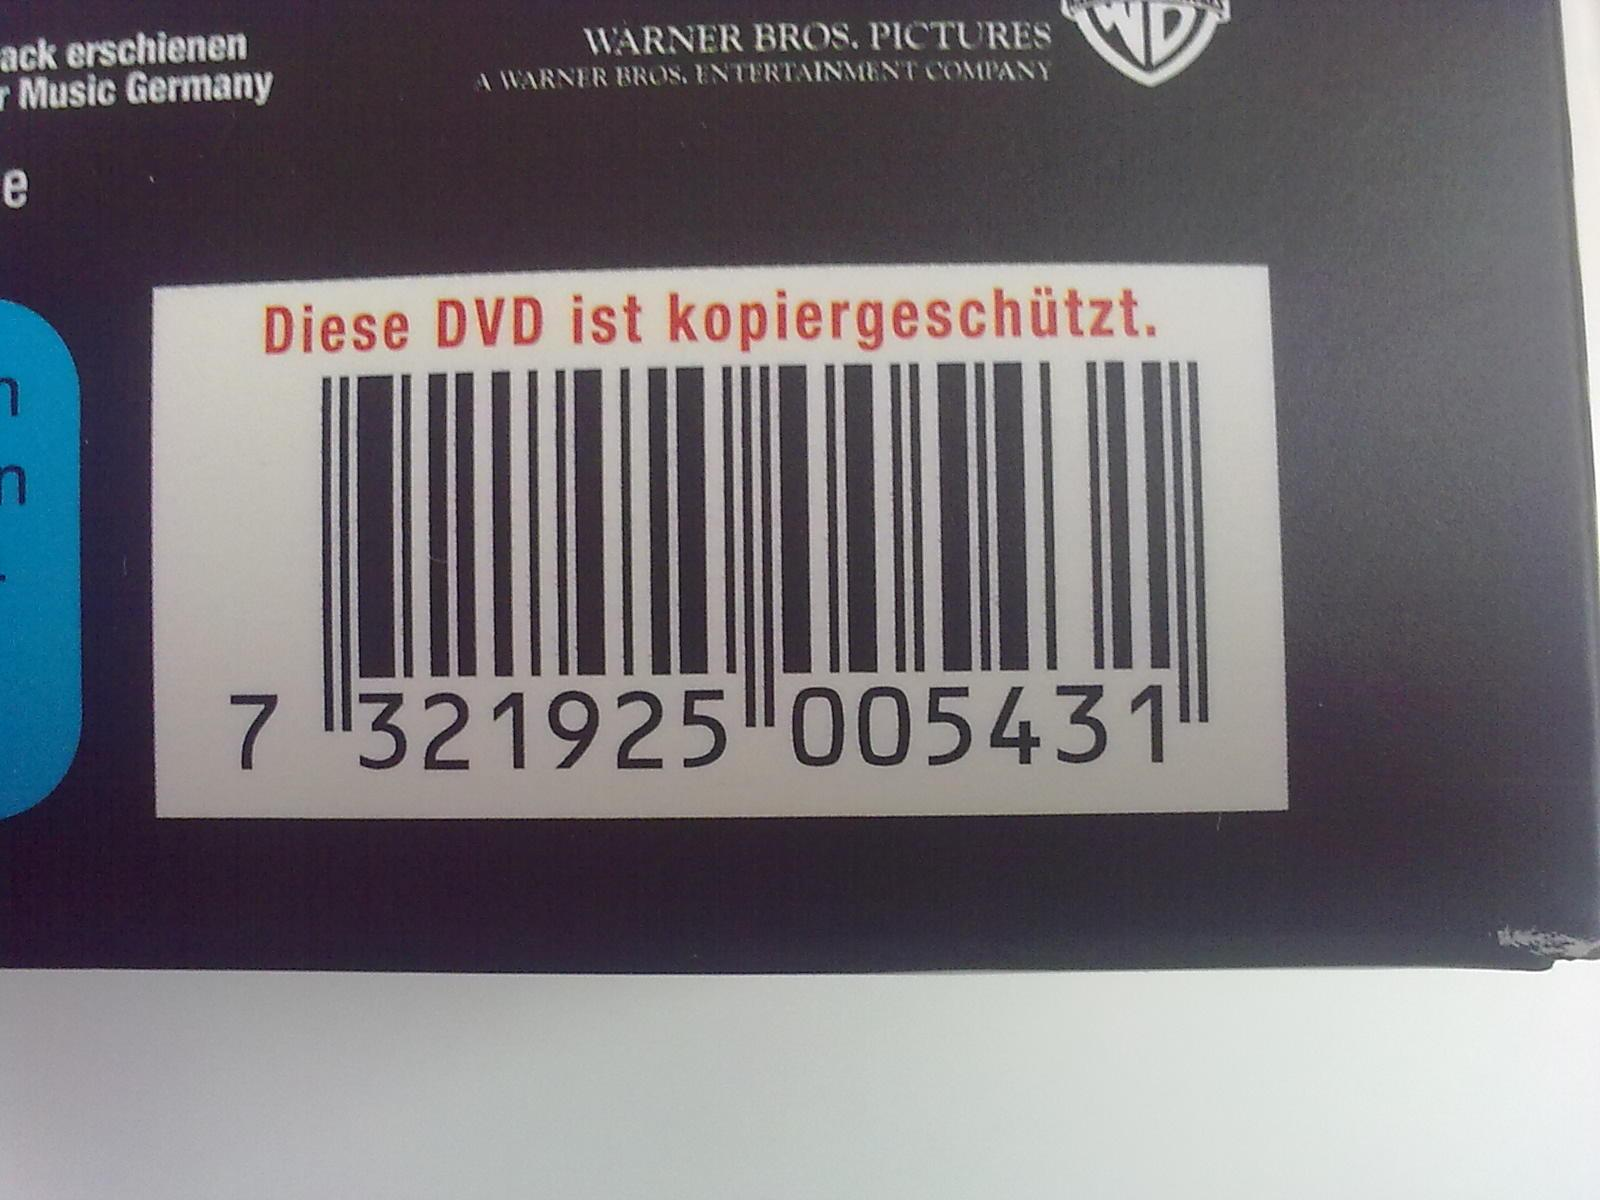barcode: (152, 260, 1290, 821)
